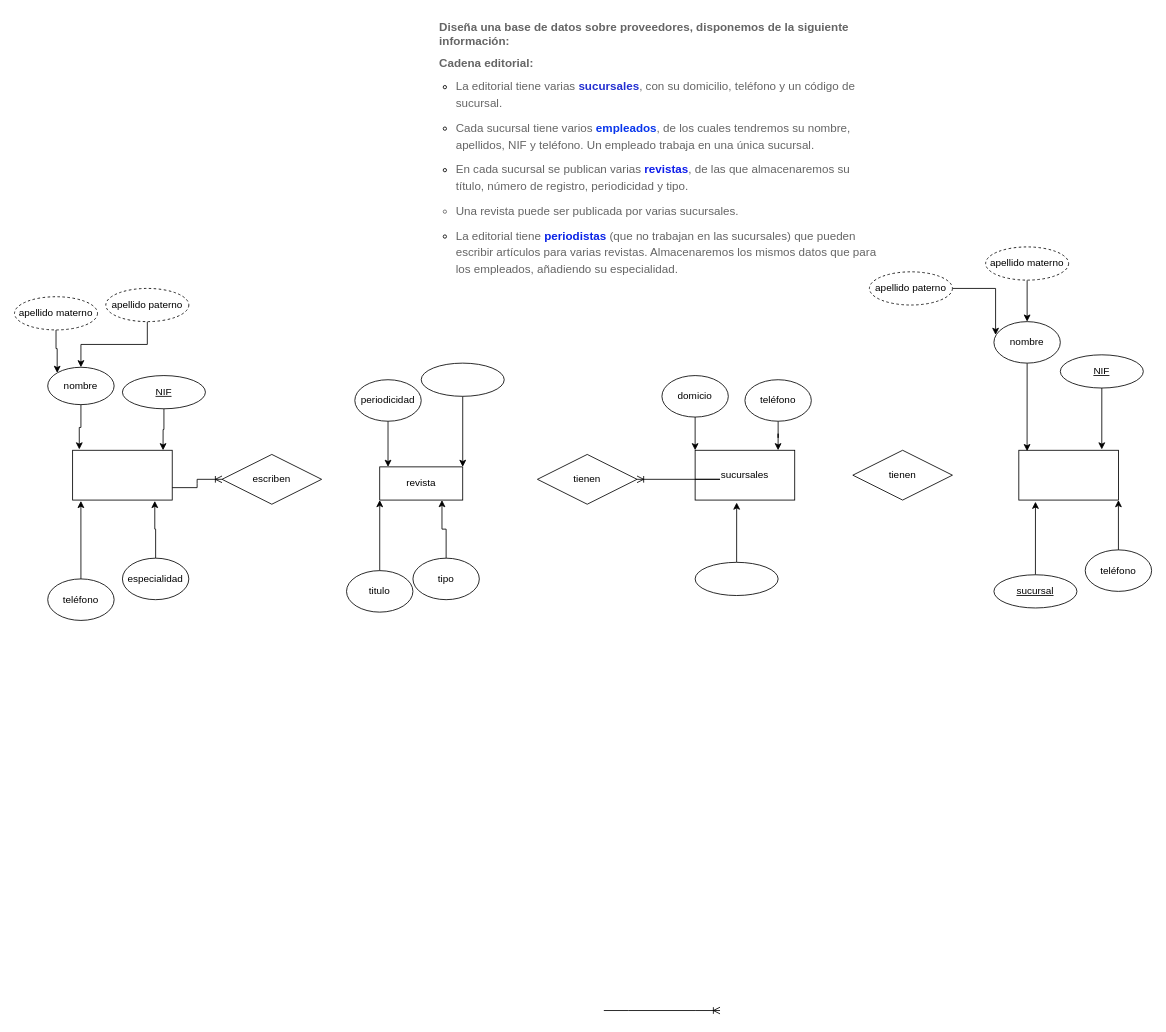
This 1166x1032 diagram has some shape labels left out. The centre of each missing label's shape, as x and y in pixels:
"código" belongs at (736,578).
"empleados" belongs at (1068,474).
"número de registro" belongs at (462,379).
"periodistas" belongs at (122,474).
